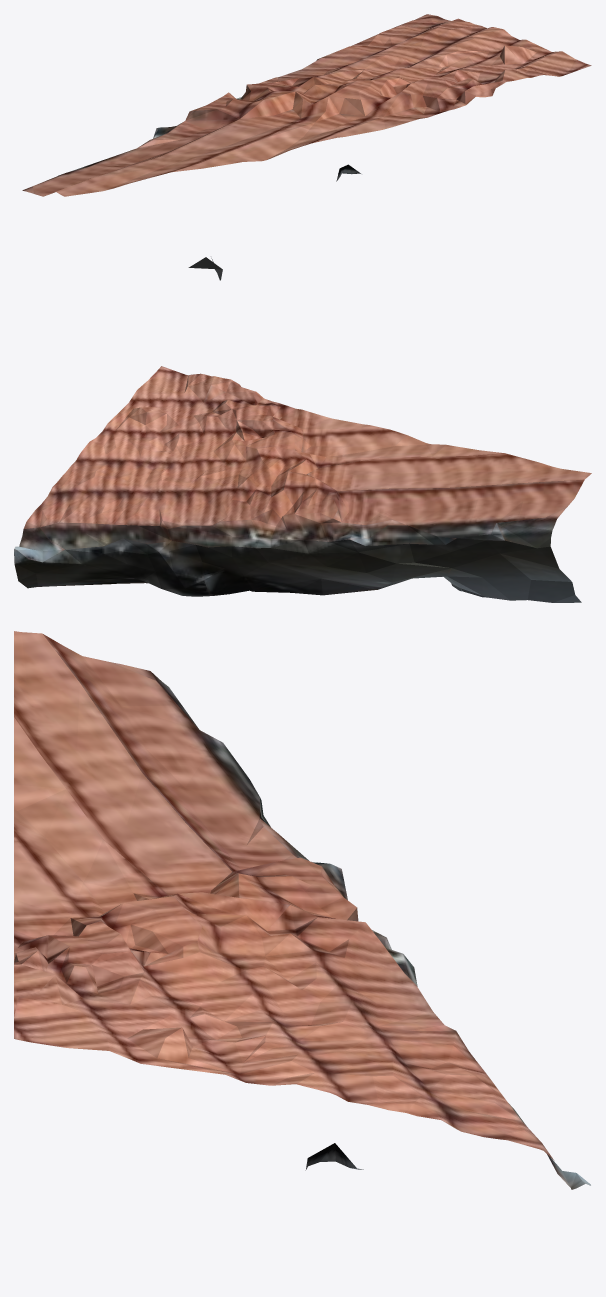
3 renders of one model, top to bottom at view 1: azimuth 30°, elevation 25°; view 2: azimuth 150°, elevation 25°; view 3: azimuth 270°, elevation 25°, orthographic. The views are drawn at different scales.
Bounding box in the file's own units: 3.35 × 0.9516 × 1.99.
2 materials, 2 textured.
